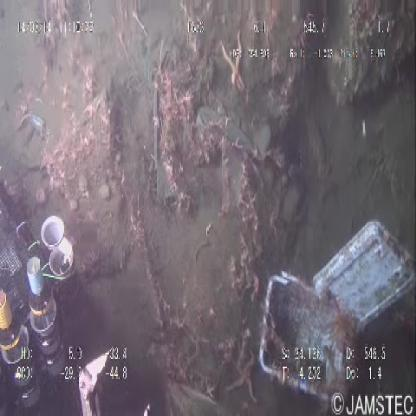Rác: (248, 202, 416, 402)
